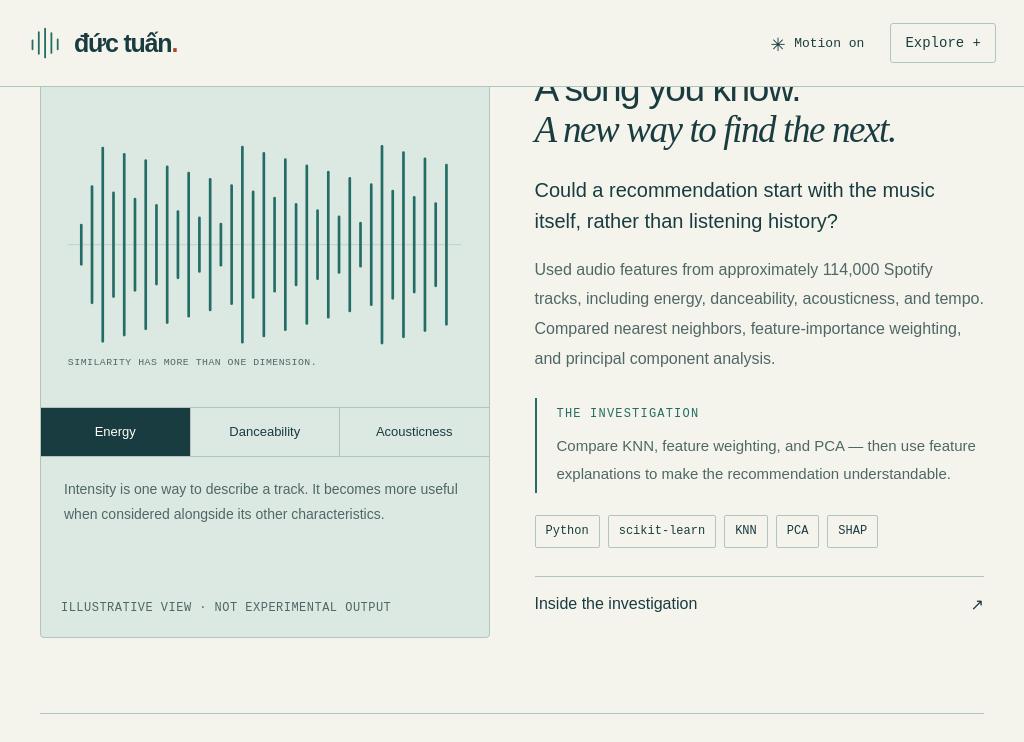
Test: Process, project concepts, and reviewed evidence › updates the audio concept, workflow, and dataset-scoped discount explanation
(page scrolled)
Click the button "Acousticness" at (414, 432), box [340, 408, 488, 456]
(page scrolled)
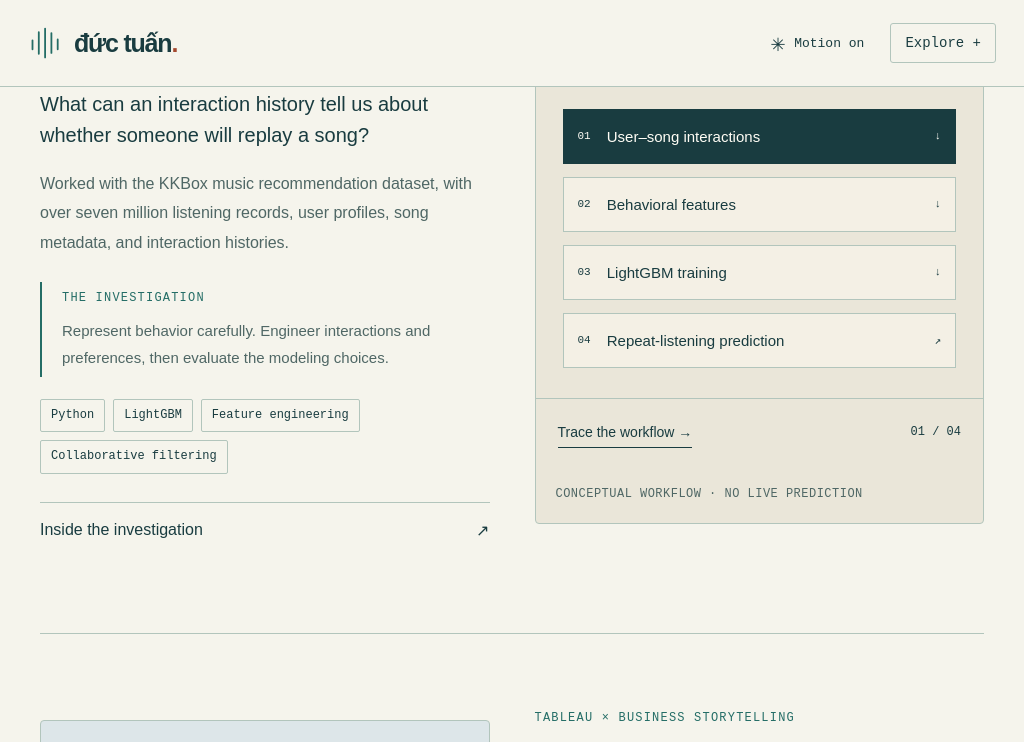
Click the button with test id "workflow-next" at (625, 432), box [558, 417, 692, 448]
(page scrolled)
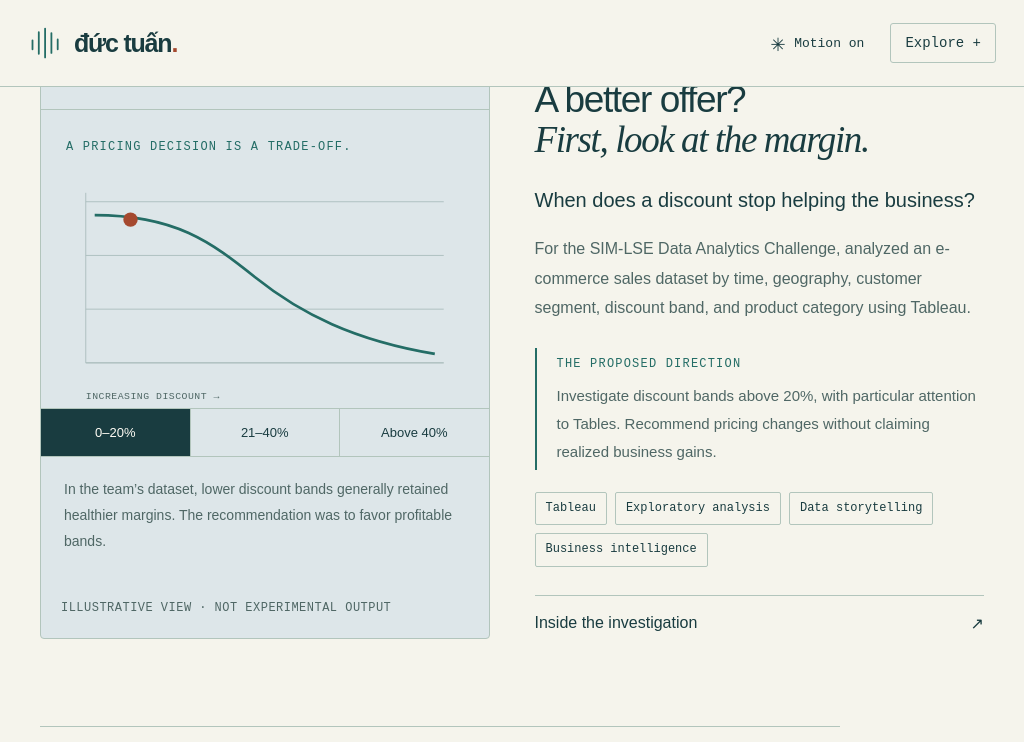
Click the button "Above 40%" at (414, 432), box [340, 409, 488, 456]
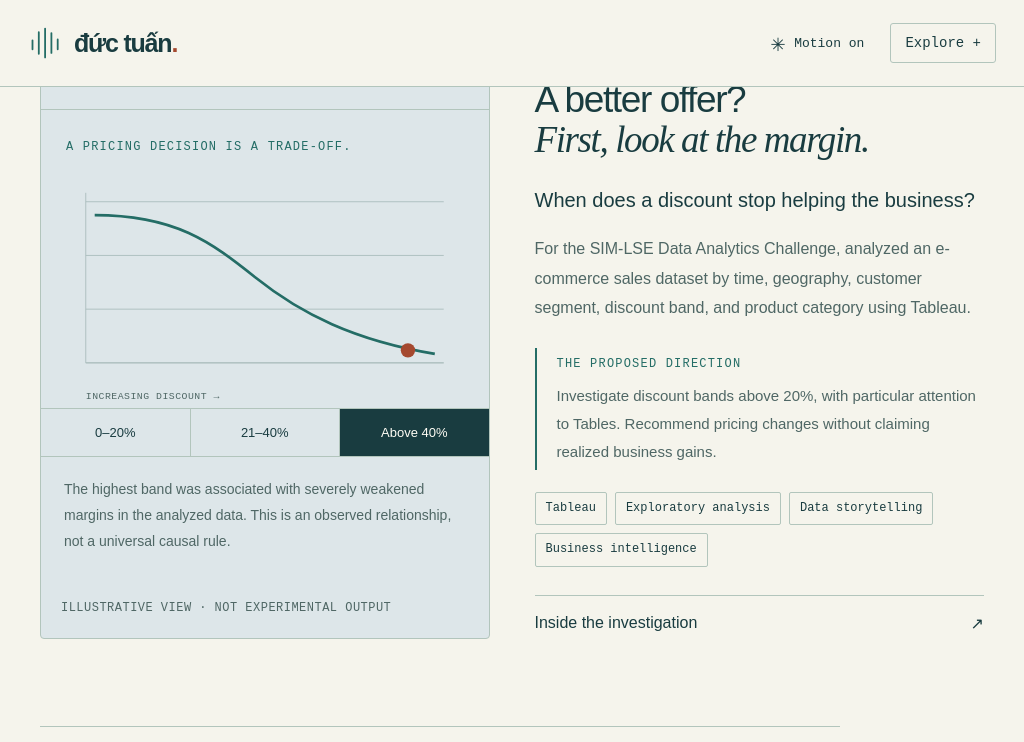
expect the text "not a universal causal rule" is shown: met, box [64, 481, 451, 549]
